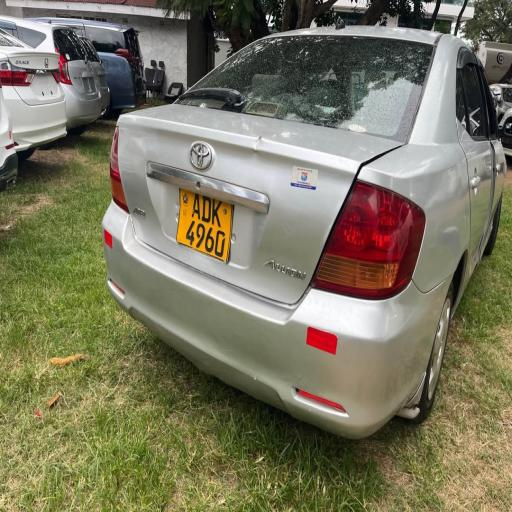number-plates: (179, 186, 230, 265)
